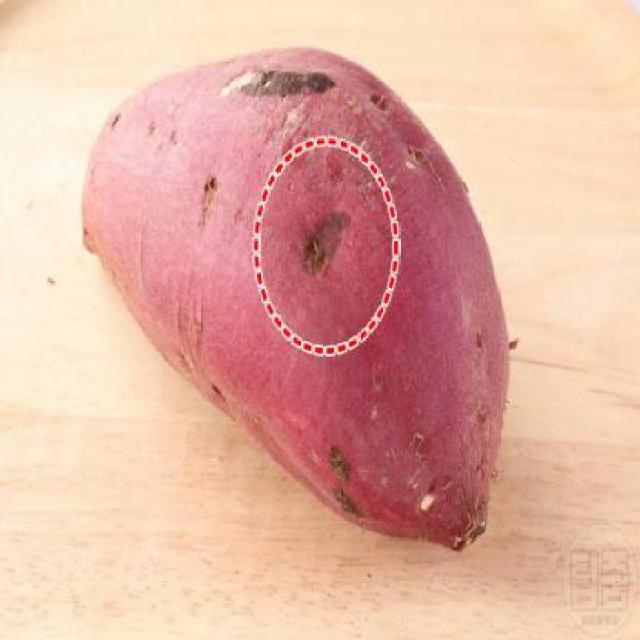Sweet Potato: (41, 27, 545, 576)
